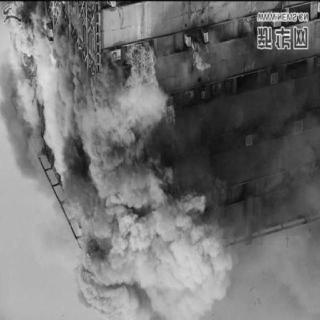Fire: (114, 38, 176, 172), (55, 161, 93, 245), (179, 26, 213, 86), (238, 11, 258, 43)
Smoke: (85, 164, 249, 316), (5, 24, 124, 182)
